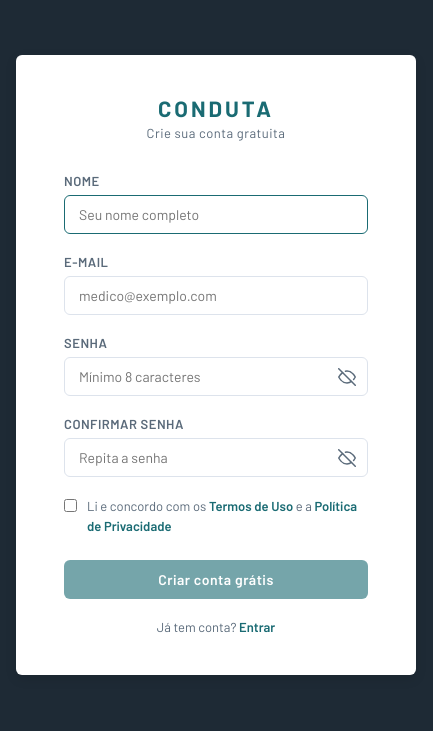
Test: Register — checkbox de termos › botão habilita quando formulário válido + checkbox marcado
The width and height of the screenshot is (433, 731).
In the field labelled "Nome": (216, 214) [64,195,368,234], type "Dr. Teste"
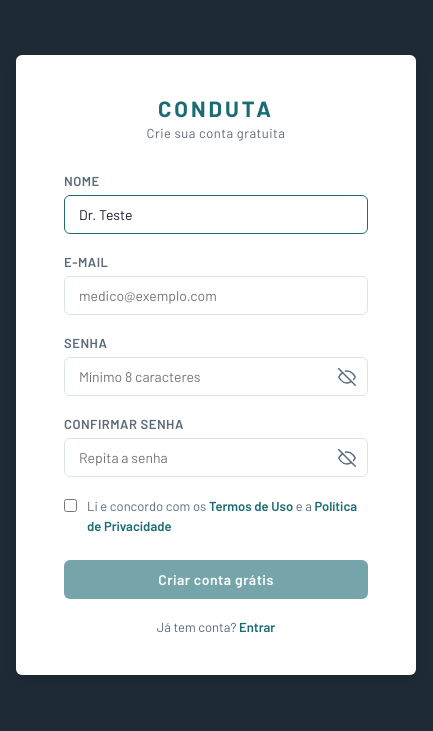
In the field labelled "E-mail": (216, 296) [64,276,368,315], type "dr@exemplo.com"
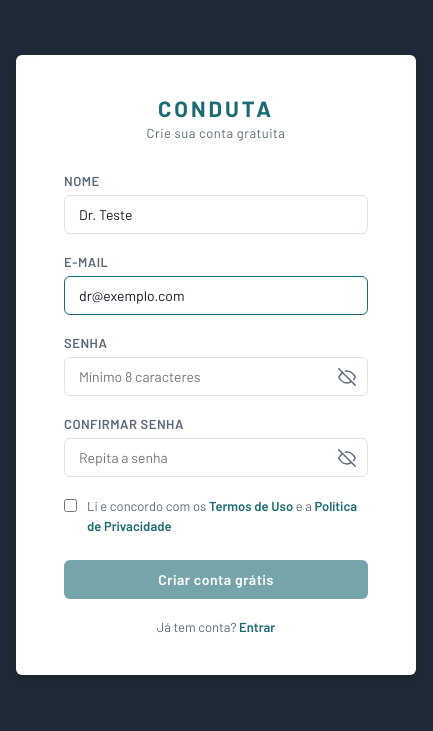
In the password field labelled "Senha": (216, 376) [64,357,368,396], type "Senha123"
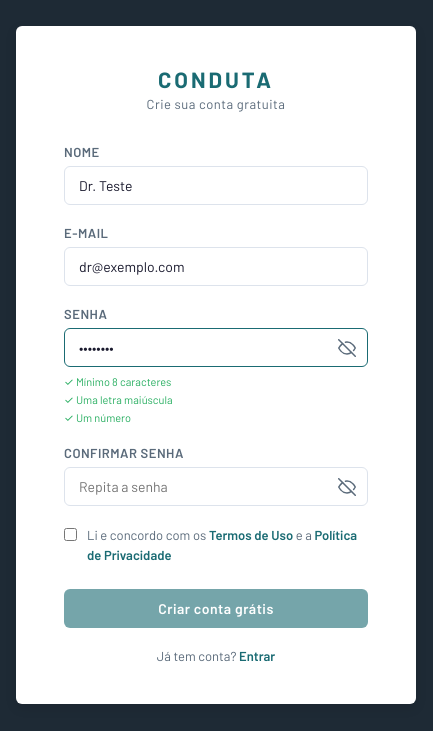
In the password field labelled "Confirmar senha": (216, 486) [64,467,368,506], type "Senha123"
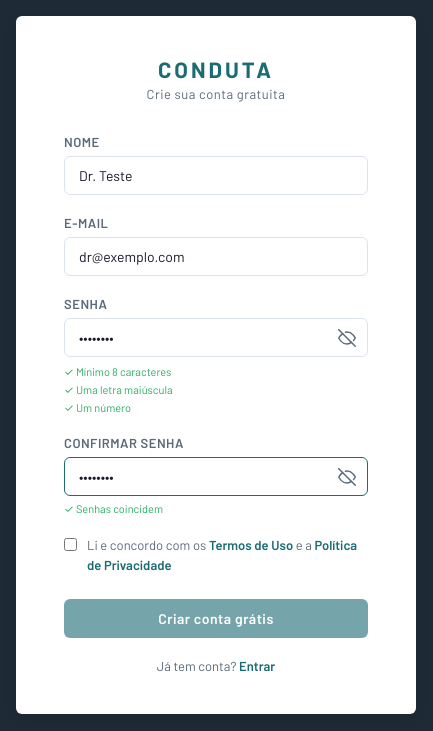
Click the checkbox: (70, 544) [64,538,77,551]
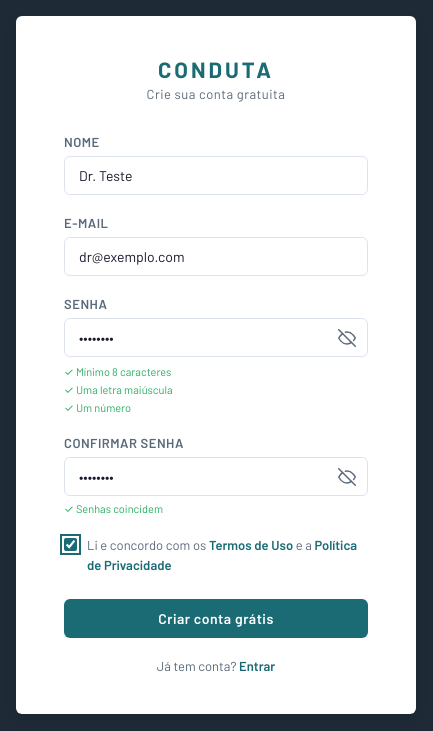
Now the button "Criar conta grátis" is enabled, box [64,599,368,638]
